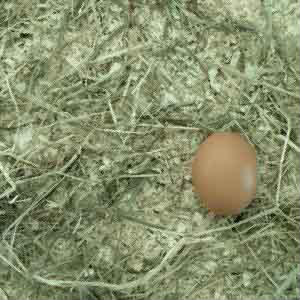egg: (190, 130, 259, 212)
